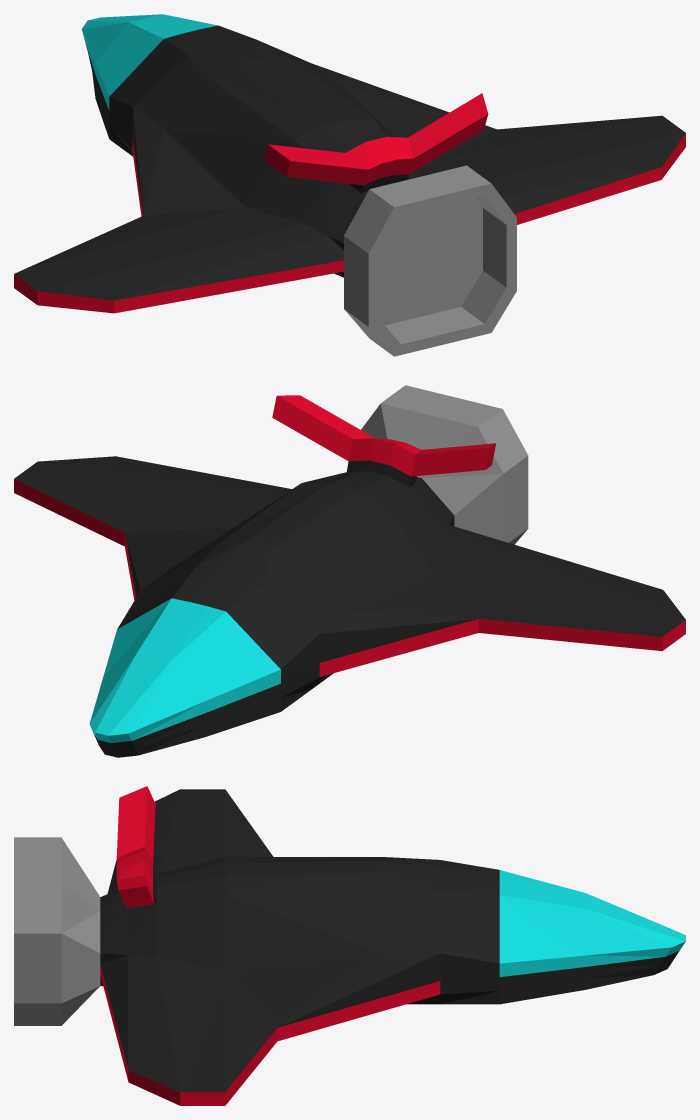
Rendered from ship4.fbx.
The picture shows the model from 3 angles, top to bottom: view 1: azimuth 30°, elevation 25°; view 2: azimuth 150°, elevation 25°; view 3: azimuth 270°, elevation 25°; orthographic projection. The views are drawn at different scales.
Parts seen in each view (by area): view 1: Ship; view 2: Ship; view 3: Ship.
Part boxes in pixels (left/top/right/bottom): Ship: left=14, top=14, right=685, bottom=356; Ship: left=14, top=385, right=685, bottom=757; Ship: left=14, top=786, right=685, bottom=1105.
Size of the model in its own units: 354 by 91.44 by 332.
